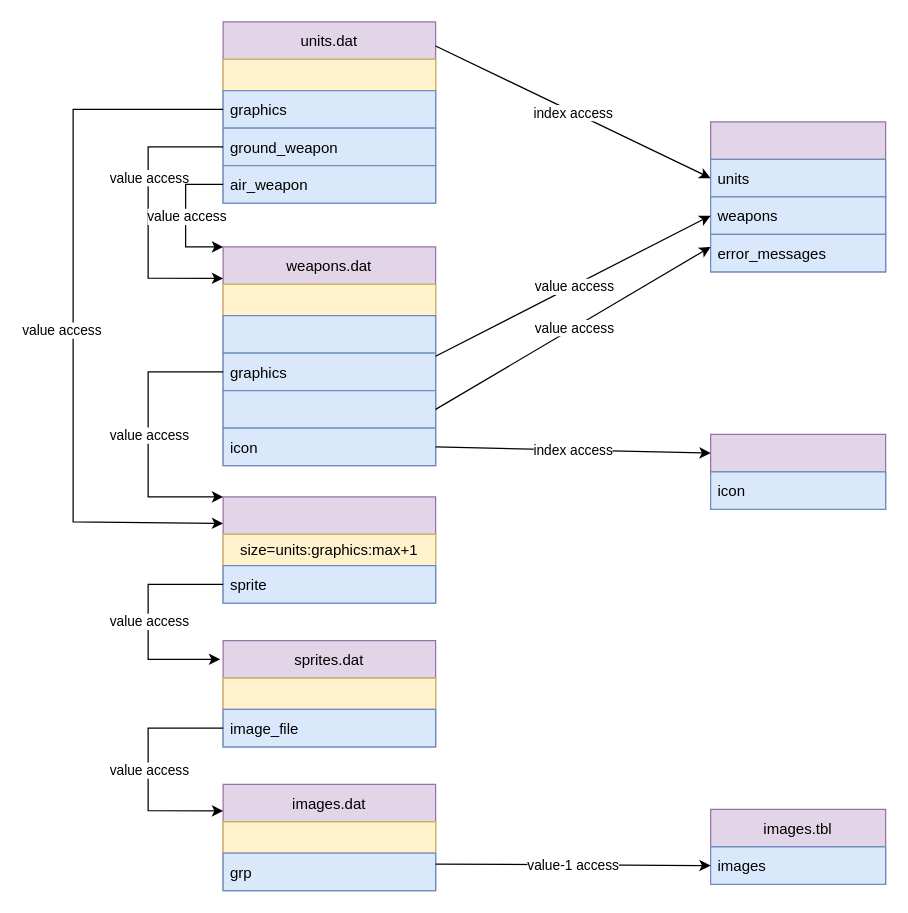
Some shapes in this 908 by 913 pixel diagram are drawn without their labels. The shapes that lost their labels are listed below. From the top down, each one's box as (x1, y1, x2, y2) in pixels, then its label:
(222, 58, 436, 91): size=228
(709, 121, 886, 272): stats_txt.tbl
(222, 283, 436, 316): size=units:*weapon:max
(222, 314, 436, 353): label
(222, 389, 436, 428): error_message
(709, 433, 886, 509): cmdicon.grp
(222, 496, 436, 603): flingy.dat
(222, 677, 436, 709): size=flingy:sprite:max+1
(222, 821, 436, 853): size=sprites:image_file:max+1
